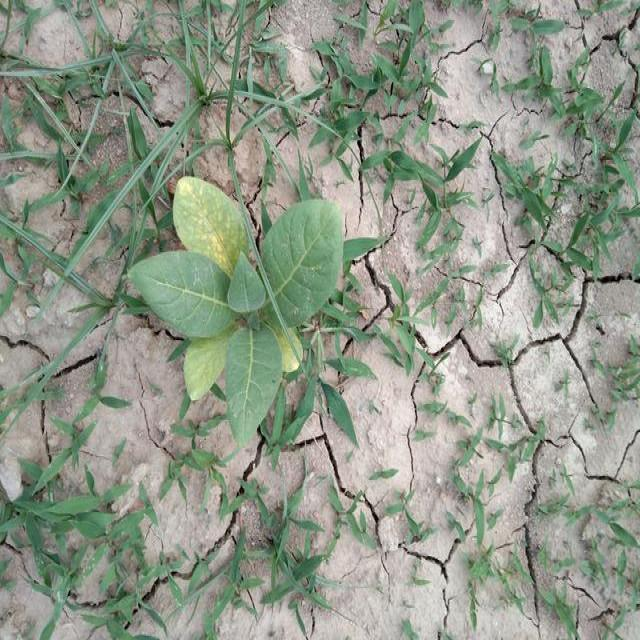crop: (138, 175, 338, 440)
